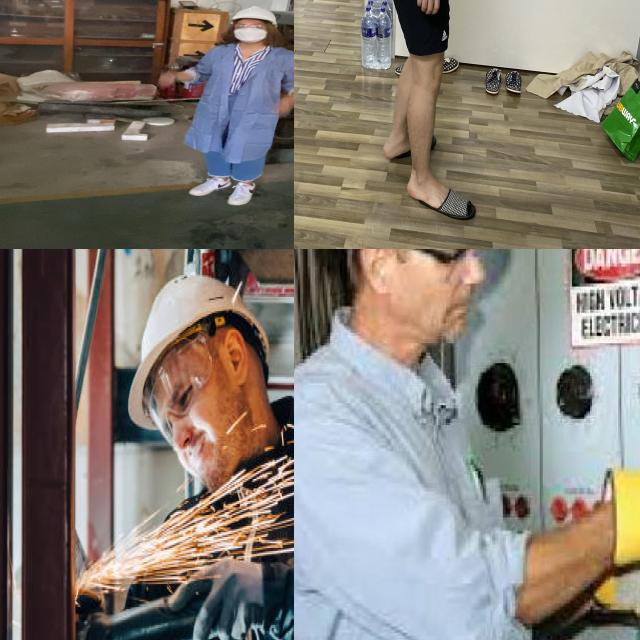No_Ear-Protection: (349, 249, 396, 309), (225, 333, 249, 385)
Sandals: (407, 160, 476, 220)
face_mask: (232, 21, 269, 43)
face_nomask: (385, 249, 483, 359), (172, 358, 250, 491)
glasses: (163, 558, 264, 640), (152, 332, 212, 443), (233, 22, 267, 30)
hand_glove: (594, 468, 640, 617)
hand_noglove: (153, 68, 183, 89), (270, 96, 294, 117)
head_helmet: (128, 275, 267, 428), (230, 4, 280, 26)
person: (153, 2, 294, 208)
shoes: (189, 173, 233, 197), (225, 178, 261, 205)
